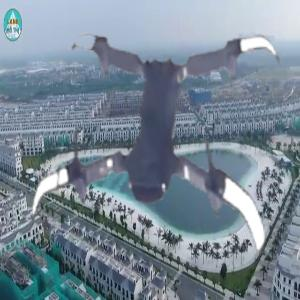drone: (21, 21, 293, 293)
